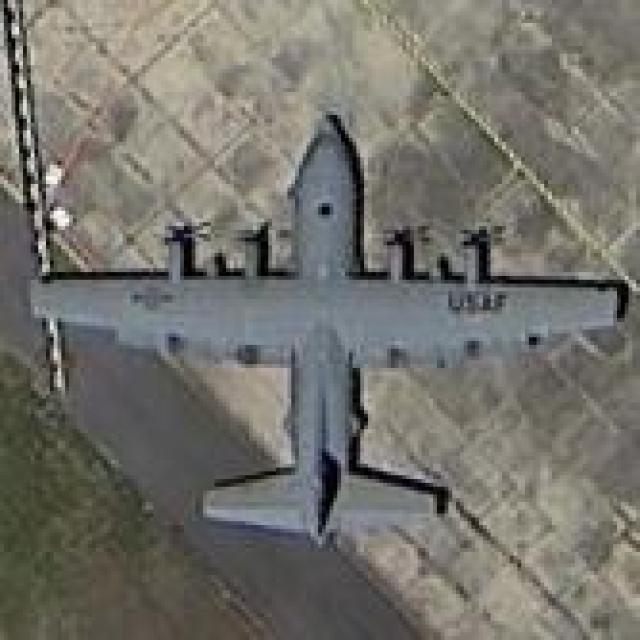C-130_TopDown: (24, 103, 630, 556)
